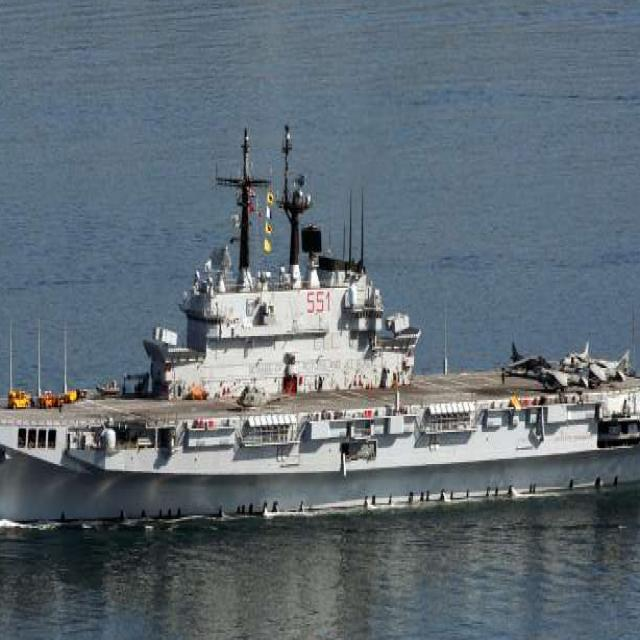Portanaves: (1, 124, 640, 529)
